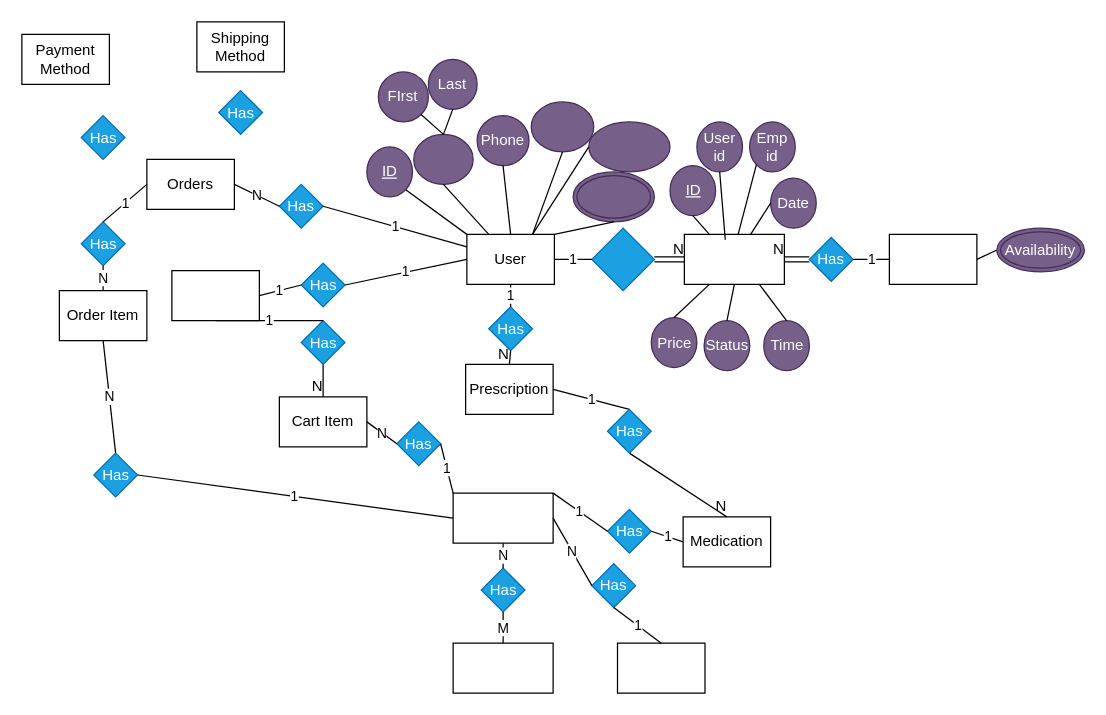
This 1106x715 diagram has some shape labels left out. The centre of each missing label's shape, as x and y in pixels:
Address: pixel 613 196
Appointment: pixel 733 258
Booking: pixel 622 259
Category: pixel 660 667
Email: pixel 562 126
Empolyee: pixel 932 258
Manufacturer: pixel 502 667
Name: pixel 442 158
Password: pixel 629 146
Product: pixel 502 517
Shopping Cart: pixel 215 295
